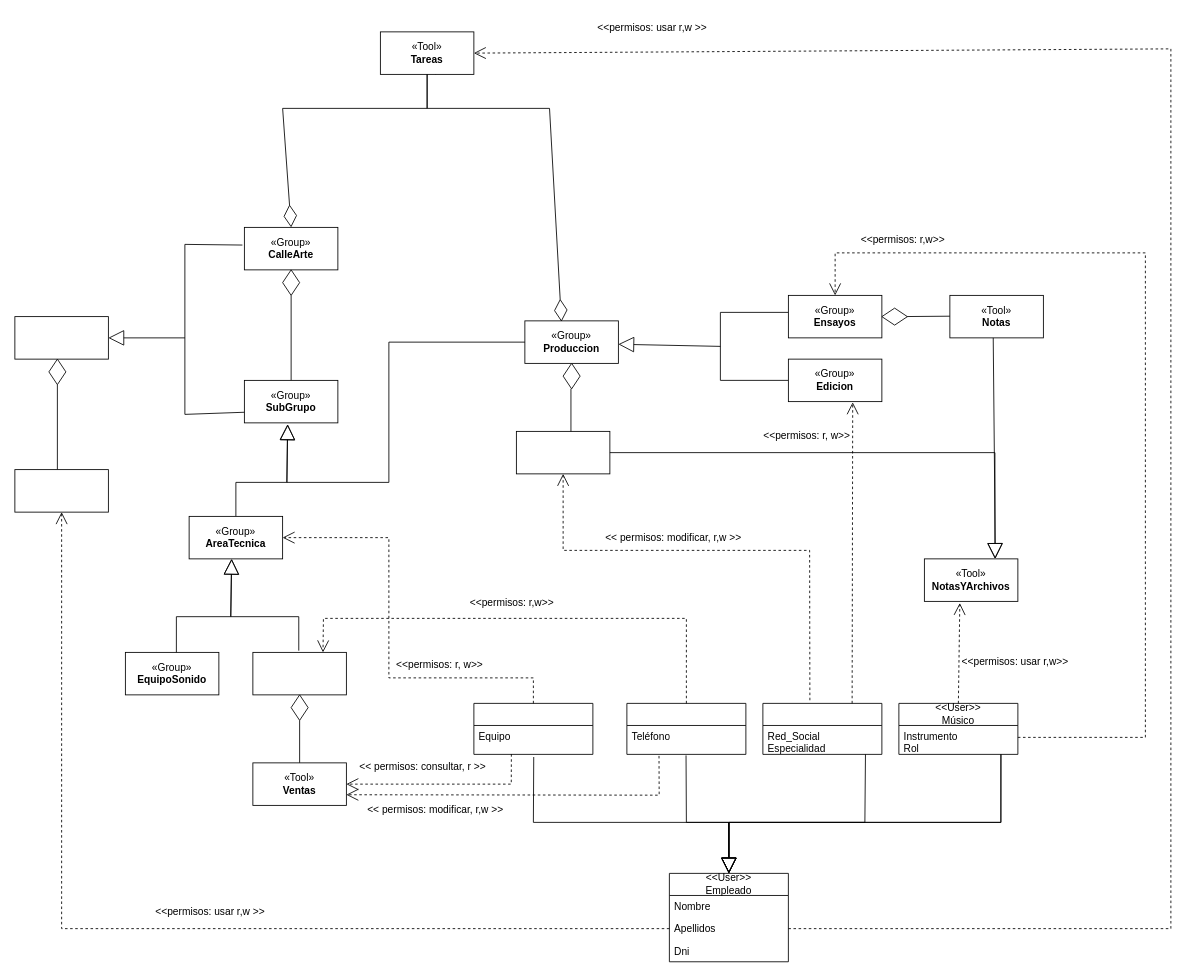
Some shapes in this 1198 by 978 pixel diagram are drawn without their labels. Here are the shapes that lost their labels. From the top down, the box of each, then its label:
(14, 316, 108, 359): «Group» Genérico
(516, 431, 610, 474): «Tool» Archivos
(14, 469, 108, 512): «Tool» Calendario
(252, 652, 346, 695): «Group» GestionFinanciera
(473, 703, 593, 754): <<User>> TécnicoSonido
(626, 703, 746, 754): <<User>> Mánager
(762, 703, 882, 754): <<User>> CommunityManager
